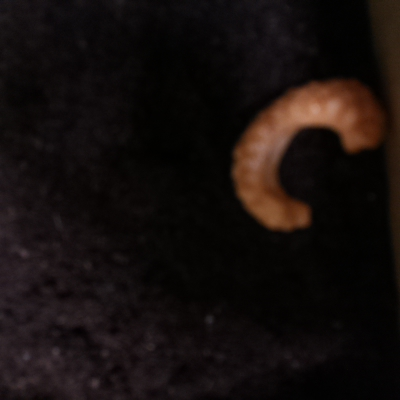eggs: (216, 64, 395, 246)
